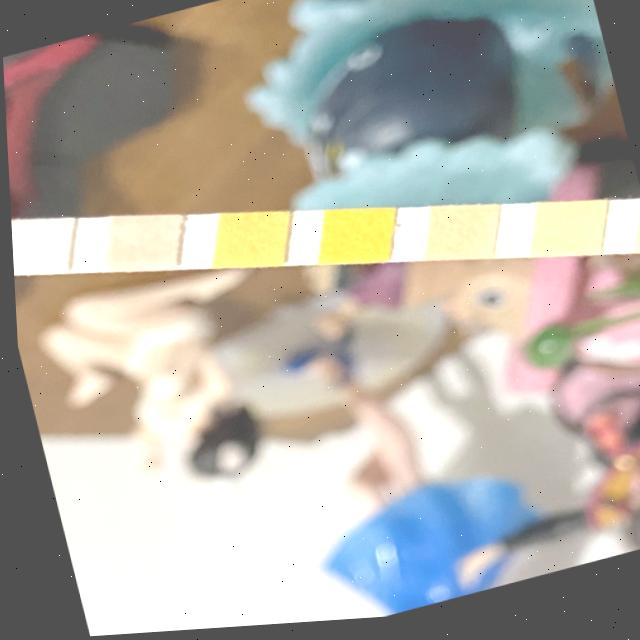Bilirubin: (9, 217, 63, 273)
Blood: (318, 211, 388, 268)
Ketone: (105, 215, 174, 272)
Protein: (528, 206, 595, 263)
SpGravity: (211, 214, 282, 271)
Urobilinogen: (632, 217, 640, 262)
pH: (423, 209, 492, 266)
